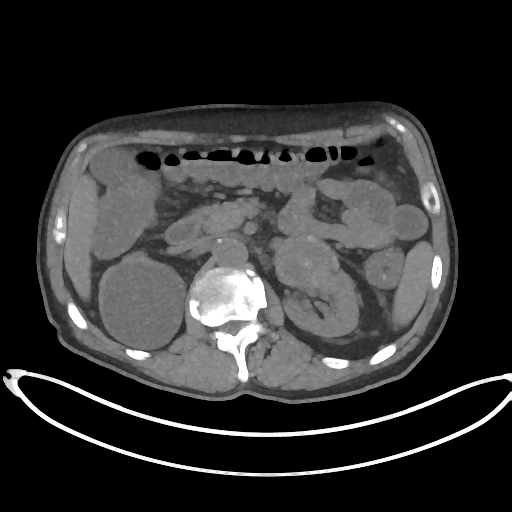Lesion: (267, 235, 343, 292)
